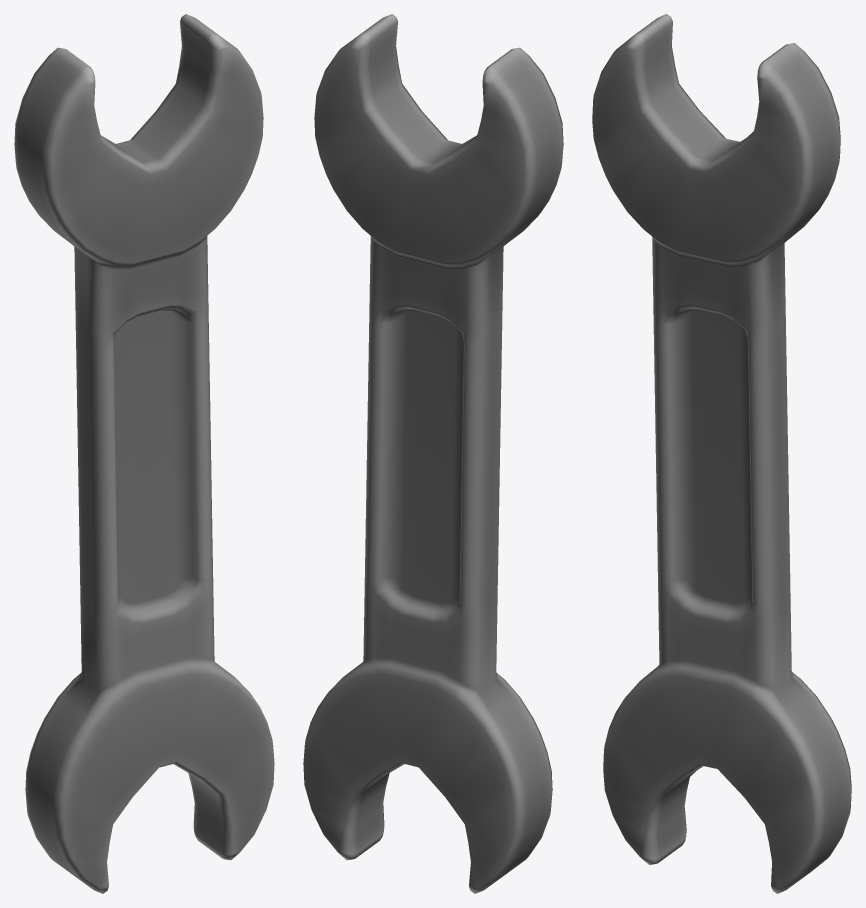
File: wrench_grey.fbx
The picture shows the model from 3 angles, left to right: view 1: azimuth 30°, elevation 25°; view 2: azimuth 150°, elevation 25°; view 3: azimuth 330°, elevation 25°; orthographic projection.
Parts seen in each view (by area): view 1: pCylinder39; view 2: pCylinder39; view 3: pCylinder39.
Boxes of the visible parts, left/top/right/bottom form: pCylinder39: left=14, top=14, right=274, bottom=893; pCylinder39: left=303, top=14, right=563, bottom=893; pCylinder39: left=592, top=14, right=851, bottom=893.
Bounding box in the file's own units: 0.3145 × 1.09 × 0.0923.
